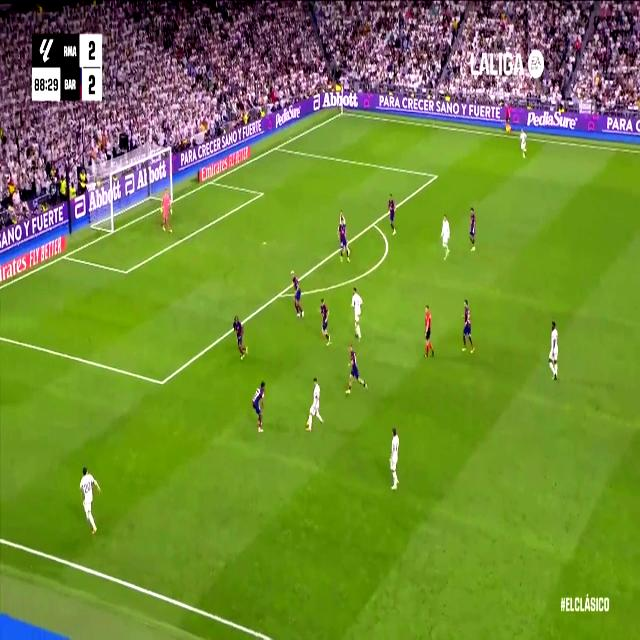bigarea_bottom_inner: (157, 370, 167, 394)
bigarea_top_inner: (432, 169, 438, 183)
bigarea_top_outter: (273, 142, 279, 152)
bottom_arc_area_intersection: (276, 286, 284, 302)
corner: (340, 109, 344, 115)
smallarea_bottom_inner: (122, 262, 130, 281)
smallarea_top_inner: (259, 188, 264, 198)
top_arc_area_intersection: (370, 217, 376, 229)
